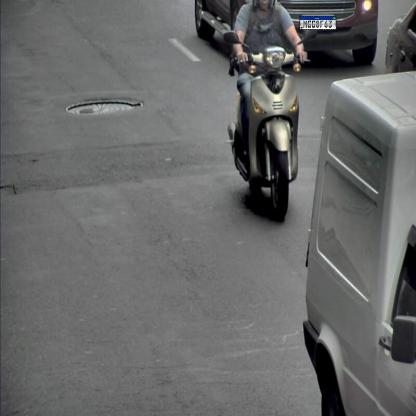PlacaM: (300, 16, 336, 30)
